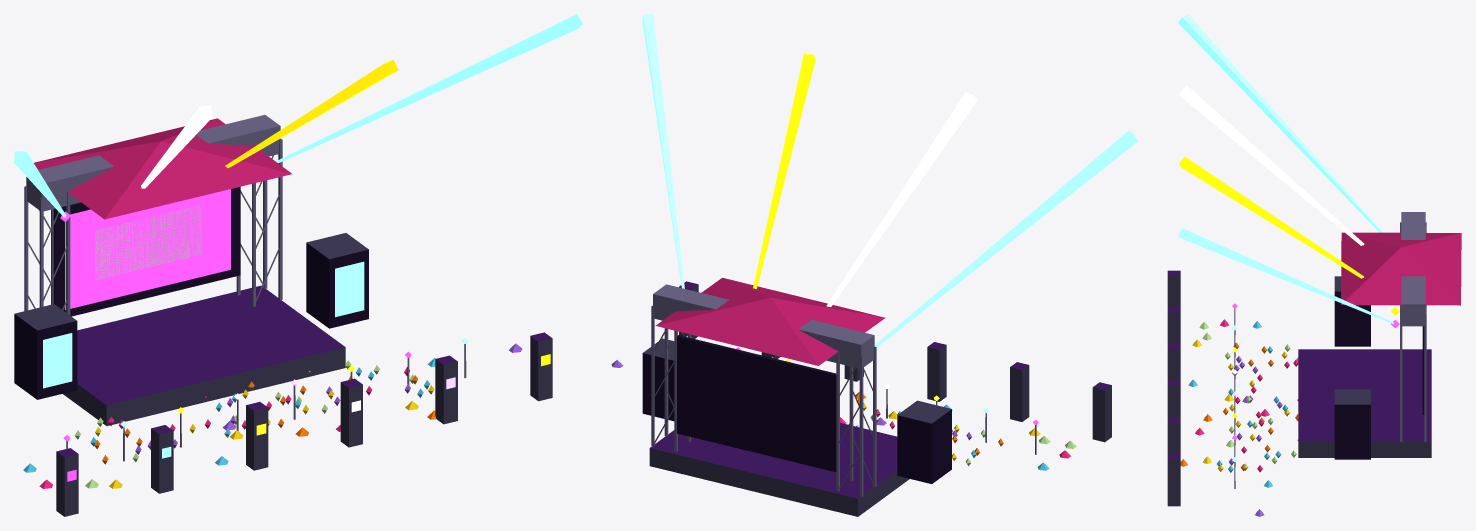
The model's file is W6_Mid_Stage_A.fbx.
3 renders of one model, left to right at view 1: azimuth 30°, elevation 25°; view 2: azimuth 150°, elevation 25°; view 3: azimuth 270°, elevation 25°, orthographic. The views are drawn at different scales.
Parts seen in each view (by area): view 1: W6_Mid_Stage_A; view 2: W6_Mid_Stage_A; view 3: W6_Mid_Stage_A.
Boxes of the visible parts, <box> form: W6_Mid_Stage_A: <box>14,14,582,516</box>; W6_Mid_Stage_A: <box>611,14,1138,516</box>; W6_Mid_Stage_A: <box>1167,14,1461,516</box>.
Bounding box in the file's own units: 120 × 73.71 × 67.93.
